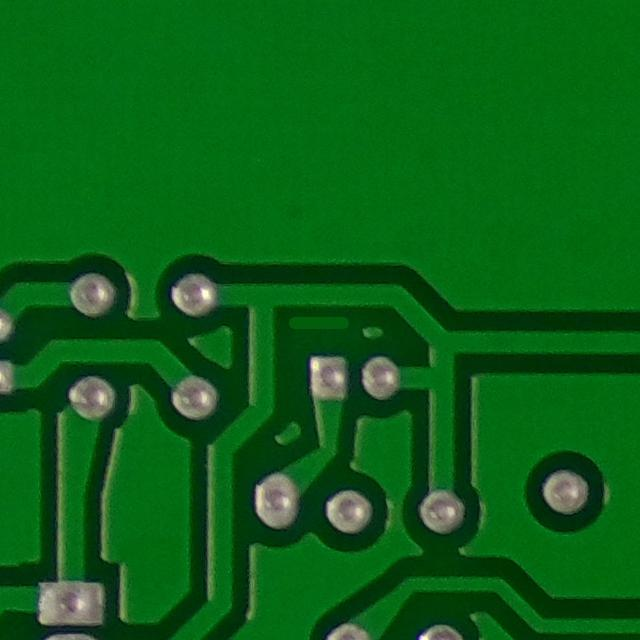spurious_copper: (271, 291, 369, 349)
